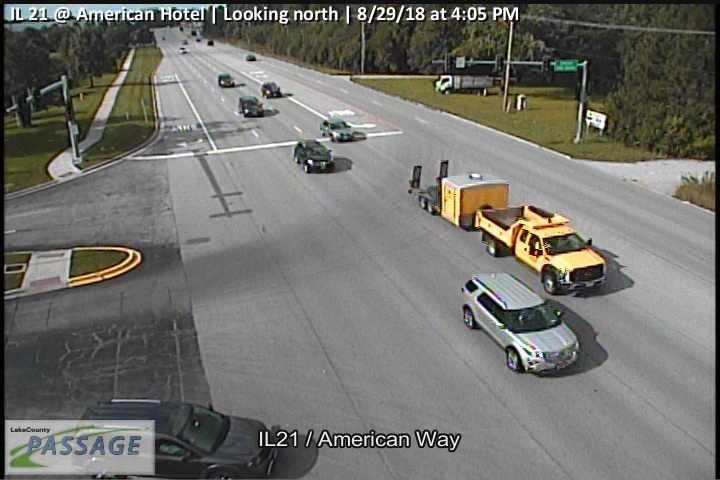SUV: (459, 272, 581, 377), (294, 139, 333, 173)
Sedan: (322, 116, 353, 141), (238, 97, 262, 118), (261, 82, 280, 97), (217, 72, 235, 87)
Truck: (408, 160, 607, 295), (435, 73, 495, 97)
